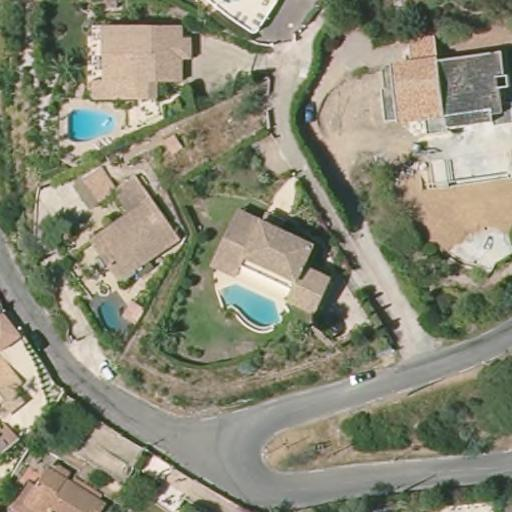pool: (216, 281, 283, 331), (65, 106, 119, 139), (95, 296, 129, 333)
